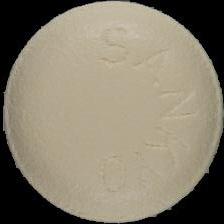68151-4633: (0, 0, 224, 224)
